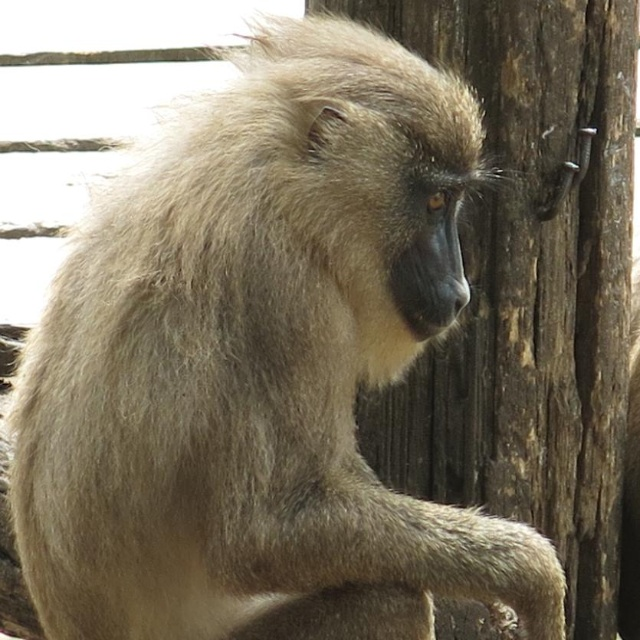Monkey: (0, 15, 560, 640)
